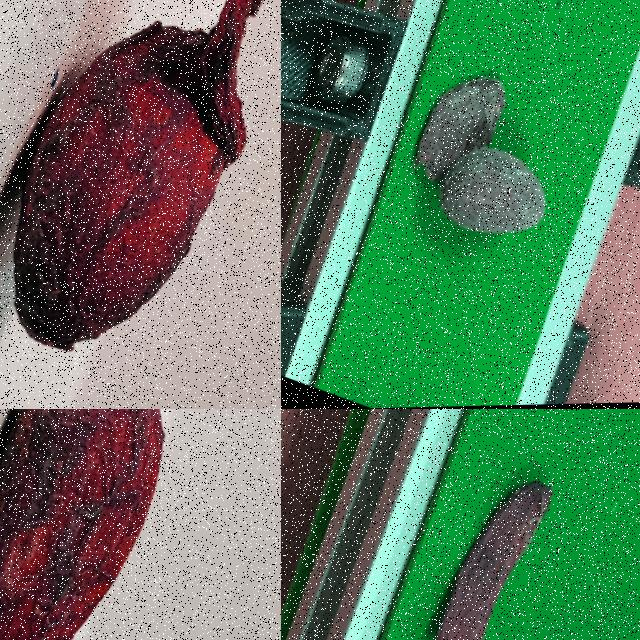Agglomerated_cocoabeans: (0, 0, 280, 408), (331, 0, 626, 327)
Fine_cocoabeans: (0, 409, 233, 639)
Flat_cocoabeans: (372, 409, 613, 639)
